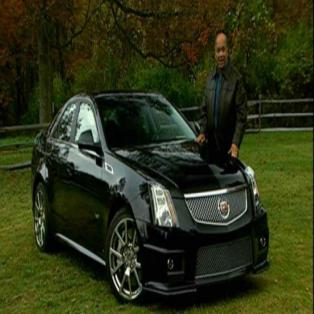Auto: (29, 92, 269, 301)
